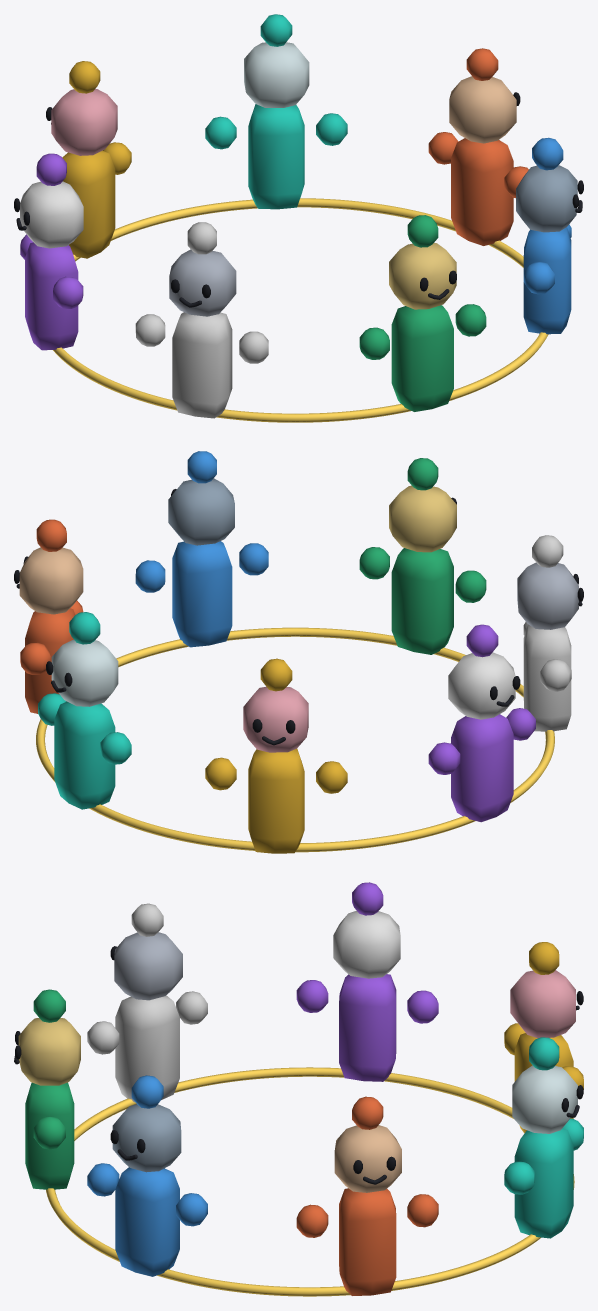
The model's file is fx_bxdoll.glb.
The picture shows the model from 3 angles, top to bottom: view 1: azimuth 30°, elevation 25°; view 2: azimuth 150°, elevation 25°; view 3: azimuth 270°, elevation 25°; orthographic projection.
Parts seen in each view (by area): view 1: bxdoll, bxdoll_ring; view 2: bxdoll, bxdoll_ring; view 3: bxdoll, bxdoll_ring.
Part boxes in pixels (<box>): bxdoll: <box>14,14,583,418</box>; bxdoll_ring: <box>53,198,548,422</box>; bxdoll: <box>14,451,583,853</box>; bxdoll_ring: <box>36,627,554,852</box>; bxdoll: <box>14,882,583,1295</box>; bxdoll_ring: <box>46,1067,574,1296</box>.
Bounding box in the file's own units: 4.37 × 1.61 × 4.27.
